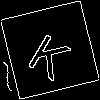K: (25, 25, 78, 82)
